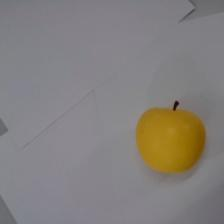yellow: (137, 100, 207, 174)
